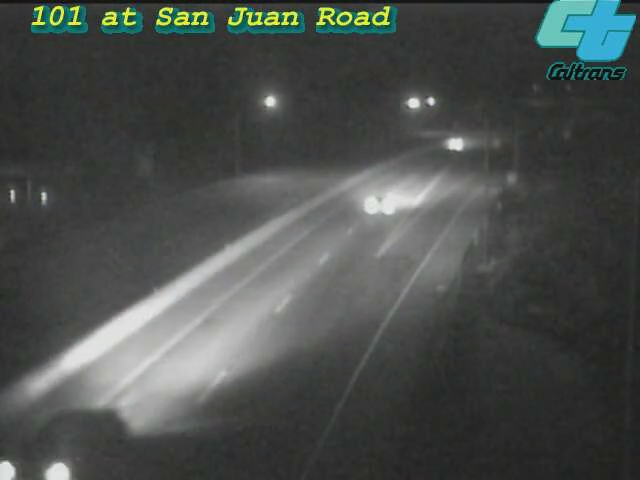vehicle: (26, 386, 136, 480), (340, 163, 420, 243), (434, 116, 484, 166)
